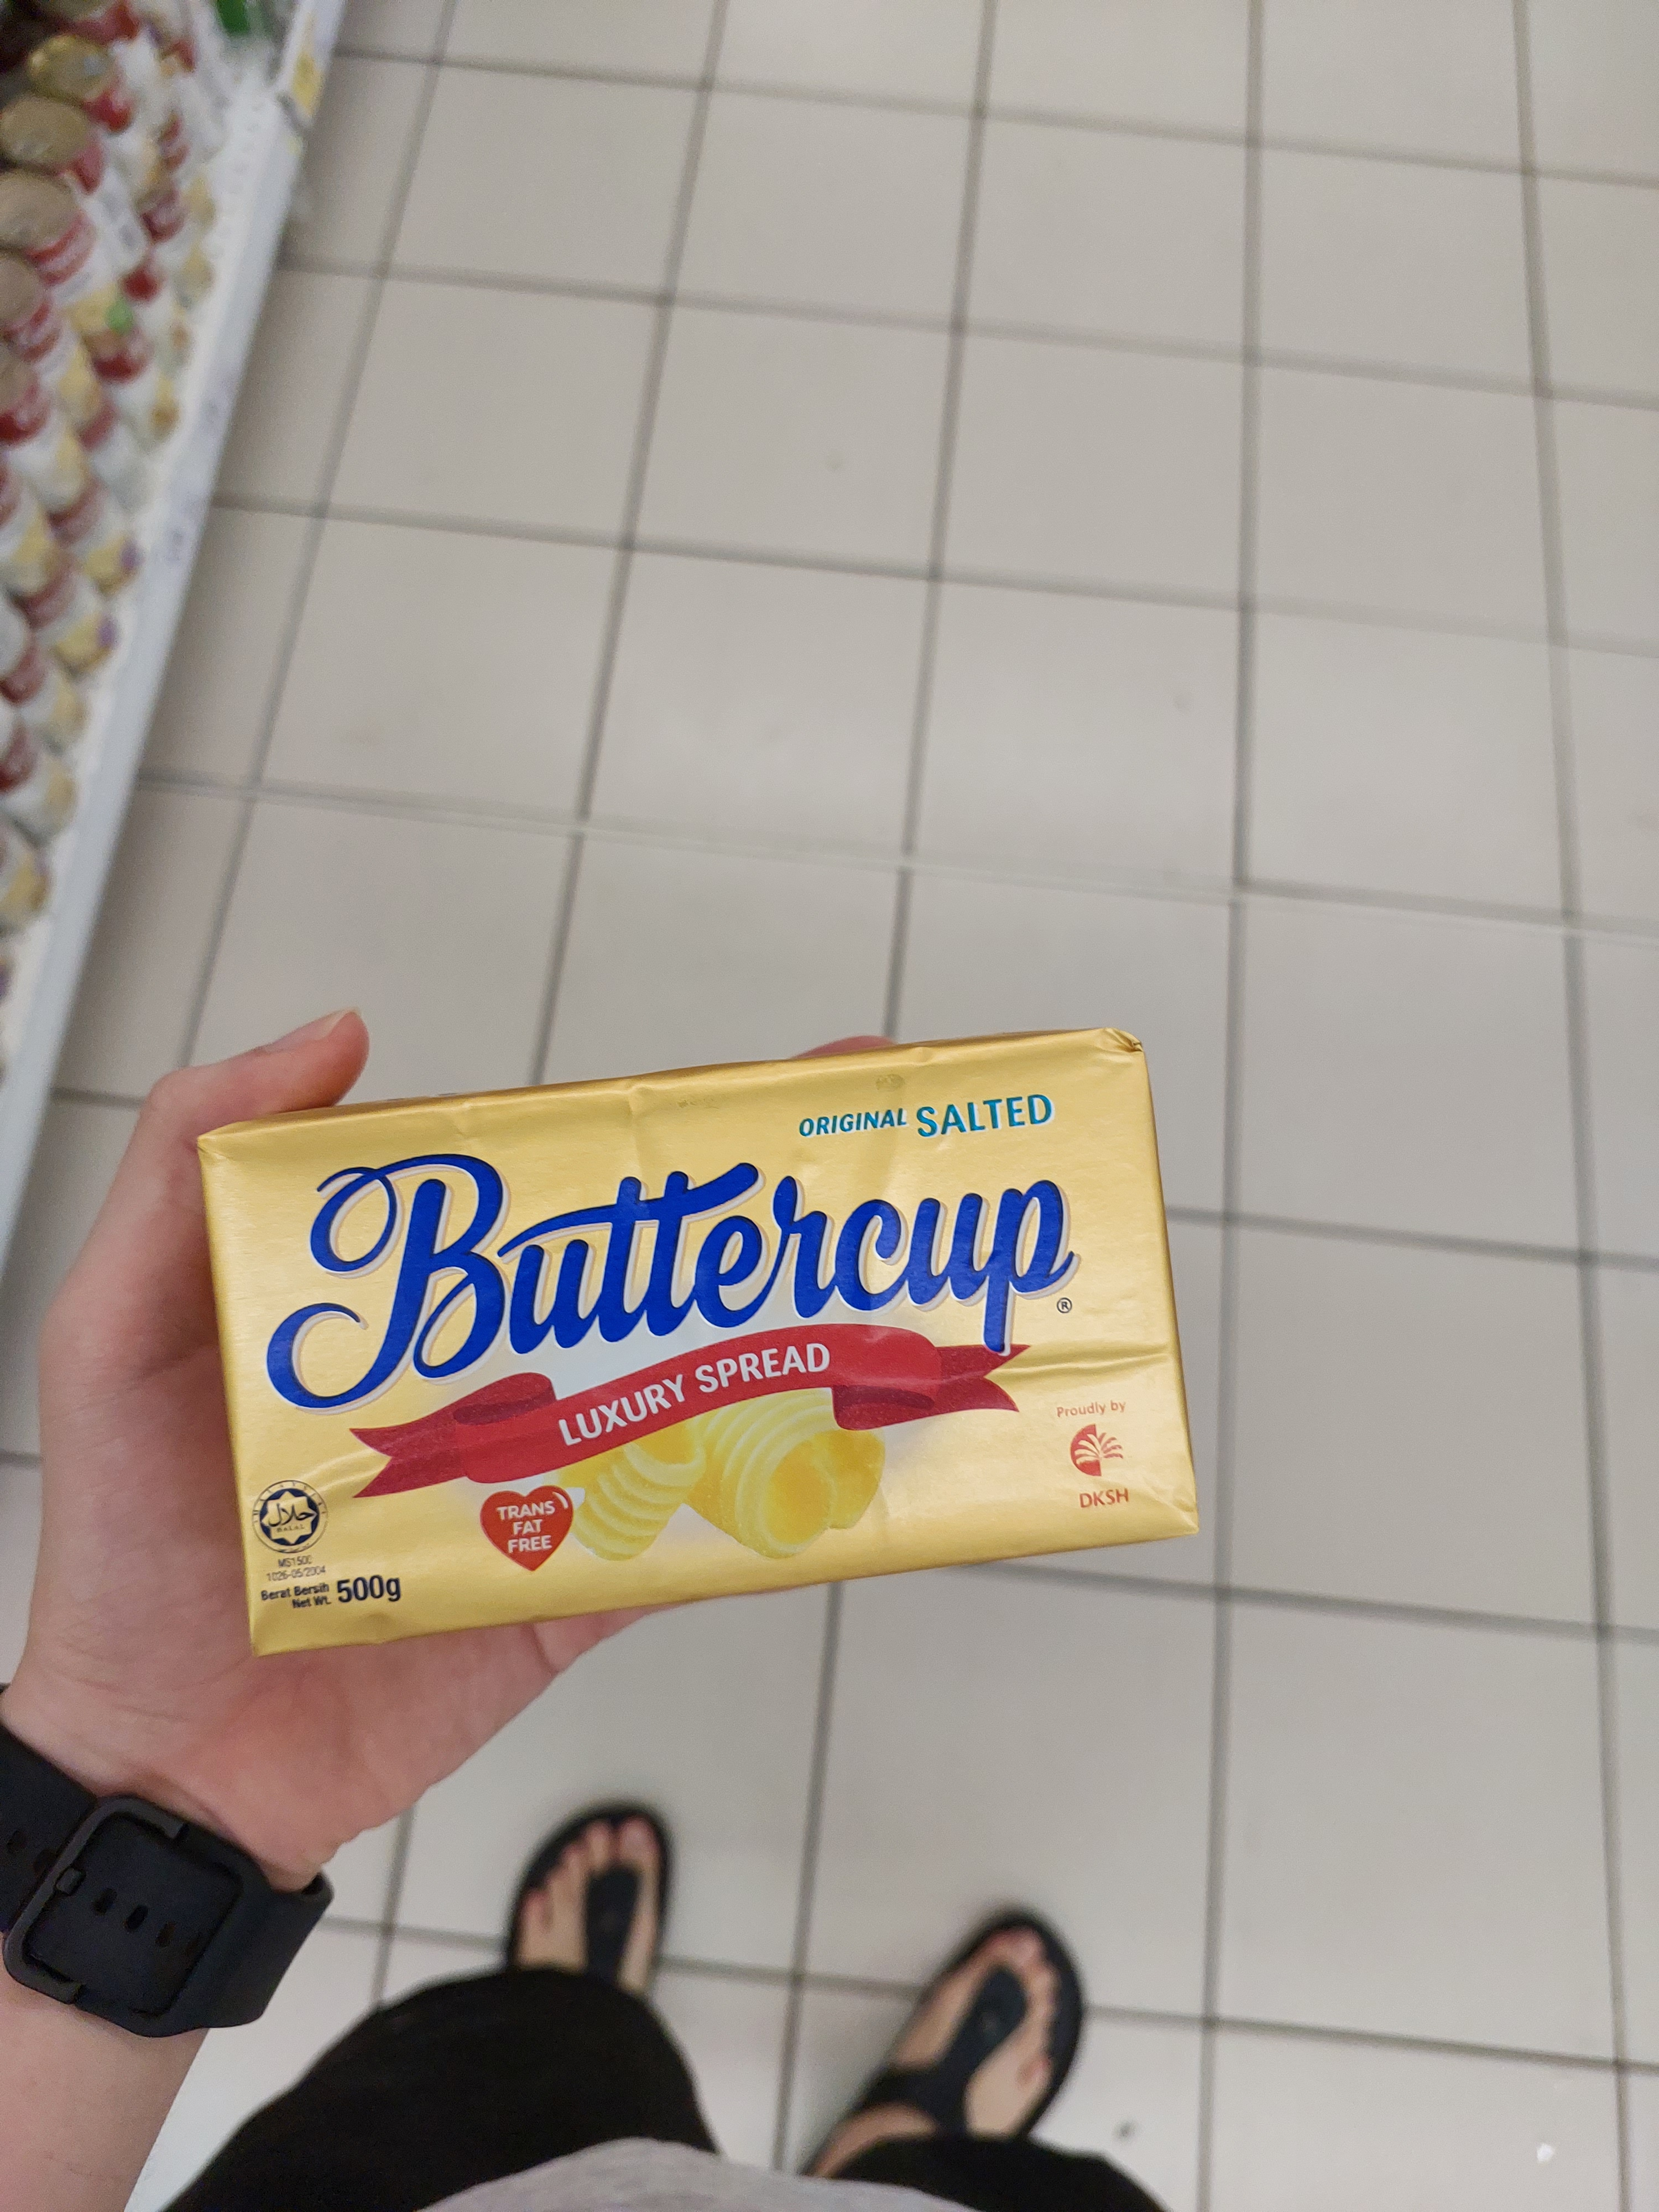butter: (186, 1033, 1208, 1658)
